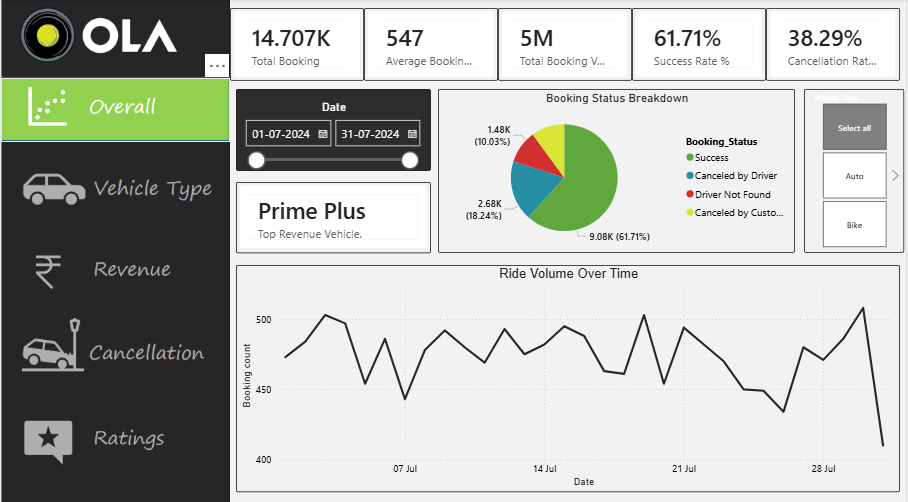

The dashboard page shown, as its layout file describes it:
{"tool":"powerbi","page":{"name":"Duplicate of Overall","canvas":[1280,720],"ordinal":5},"visuals":[{"type":"actionButton","box":[0,222.5,324.6,90.7],"z":0},{"type":"actionButton","box":[0,343,324.6,90.7],"z":1000},{"type":"actionButton","box":[0,452.1,324.6,90.7],"z":2000},{"type":"actionButton","box":[0,581.1,324.6,90.7],"z":3000},{"type":"actionButton","box":[0,112,324.6,90.7],"z":4000},{"type":"lineChart","title":"Ride Volume Over Time","fields":{"Y":["CountNonNull(July.Booking_ID)"],"Category":["July.Date.Variation.Date Hierarchy.Year","July.Date.Variation.Date Hierarchy.Month","July.Date.Variation.Date Hierarchy.Day"]},"box":[333.1,377,941.1,321.7],"z":5000},{"type":"pieChart","title":"Booking Status Breakdown","fields":{"Category":["July.Booking_Status"],"Y":["CountNonNull(July.Booking_Status)"]},"box":[619.4,127.6,506,232.4],"z":6000},{"type":"slicer","title":"Date","fields":{"Values":["July.Date"]},"box":[333.1,127.6,276.4,116.2],"z":7000},{"type":"cardVisual","title":"Booking Status Breakdown","fields":{"Data":["Count(July.Booking_ID)"]},"box":[324.6,12.8,190,103.5],"z":8000},{"type":"cardVisual","title":"Booking Status Breakdown","fields":{"Data":["Sum(July.Booking_Value)"]},"box":[704.4,12.8,189.9,103.5],"z":9000},{"type":"cardVisual","fields":{"Data":["July.Success Rate %"]},"box":[894.3,12.8,189.9,103.5],"z":10000},{"type":"cardVisual","fields":{"Data":["July.Cancellation Rate %"]},"box":[1084.3,12.8,189.9,103.5],"z":11000},{"type":"cardVisual","fields":{"Data":["July.Average Booking Value"]},"box":[514.5,12.8,190,103.5],"z":12000},{"type":"cardVisual","title":"Booking Status Breakdown","fields":{"Data":["July.Top Vehicle"]},"box":[333.1,259.4,276.4,100.6],"z":13000},{"type":"slicer","fields":{"Values":["July.Vehicle_Type"]},"box":[1138.1,127.6,141.7,232.4],"z":14000}]}

Visuals, with their boxes in screenshot pixels (x1, y1, x2, y2), scaled from the page's 1280x720 canvas onto the 908x502 screenshot:
actionButton: <region>0, 155, 230, 218</region>
actionButton: <region>0, 239, 230, 302</region>
actionButton: <region>0, 315, 230, 378</region>
actionButton: <region>0, 405, 230, 468</region>
actionButton: <region>0, 78, 230, 141</region>
"Ride Volume Over Time" lineChart: <region>236, 263, 904, 487</region>
"Booking Status Breakdown" pieChart: <region>439, 89, 798, 251</region>
"Date" slicer: <region>236, 89, 432, 170</region>
"Booking Status Breakdown" cardVisual: <region>230, 9, 365, 81</region>
"Booking Status Breakdown" cardVisual: <region>500, 9, 634, 81</region>
cardVisual - July.Success Rate %: <region>634, 9, 769, 81</region>
cardVisual - July.Cancellation Rate %: <region>769, 9, 904, 81</region>
cardVisual - July.Average Booking Value: <region>365, 9, 500, 81</region>
"Booking Status Breakdown" cardVisual: <region>236, 181, 432, 251</region>
slicer - July.Vehicle_Type: <region>807, 89, 907, 251</region>
